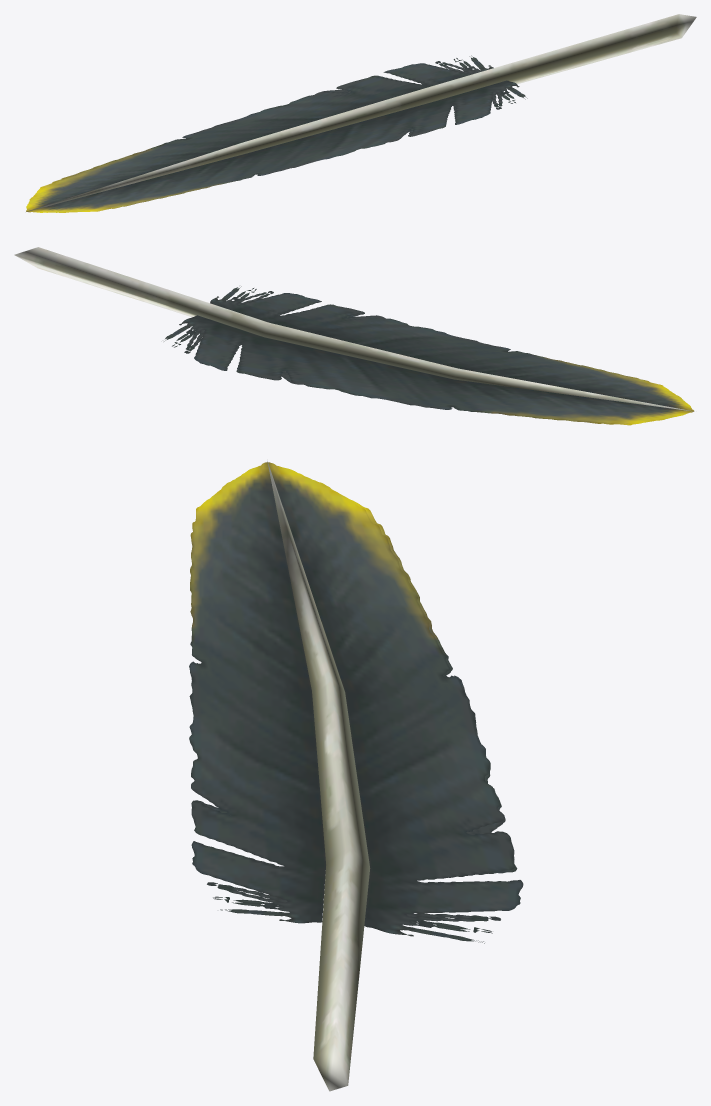
The model's file is inscription_quill03.obj.
3 views of the same model, one above another, from view 1: azimuth 30°, elevation 25°; view 2: azimuth 150°, elevation 25°; view 3: azimuth 270°, elevation 25° (orthographic). The views are drawn at different scales.
Visible parts, largest first — view 1: INSCRIPTION_QUILL031, INSCRIPTION_QUILL030; view 2: INSCRIPTION_QUILL031, INSCRIPTION_QUILL030; view 3: INSCRIPTION_QUILL031, INSCRIPTION_QUILL030.
Part boxes in pixels (bbox=[...]): INSCRIPTION_QUILL031: bbox=[26, 55, 527, 212]; INSCRIPTION_QUILL030: bbox=[27, 14, 696, 211]; INSCRIPTION_QUILL031: bbox=[164, 286, 693, 425]; INSCRIPTION_QUILL030: bbox=[14, 247, 694, 411]; INSCRIPTION_QUILL031: bbox=[189, 462, 523, 943]; INSCRIPTION_QUILL030: bbox=[267, 461, 370, 1091].
Size of the model in its own units: 0.7596 by 0.0388 by 0.1697.
1 material, 1 textured.
